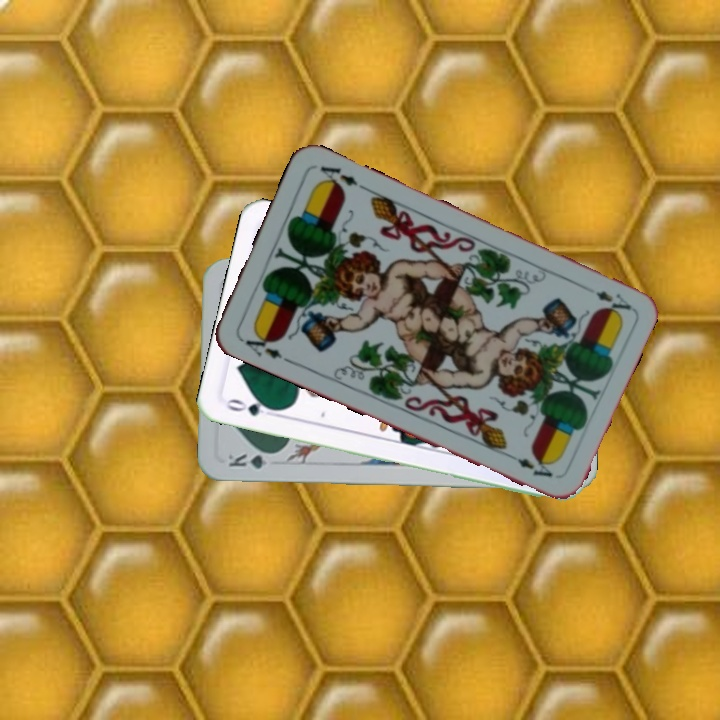EA: (237, 327, 285, 362), (591, 286, 634, 317)
GK: (224, 449, 281, 472)
GO: (222, 394, 281, 420)
